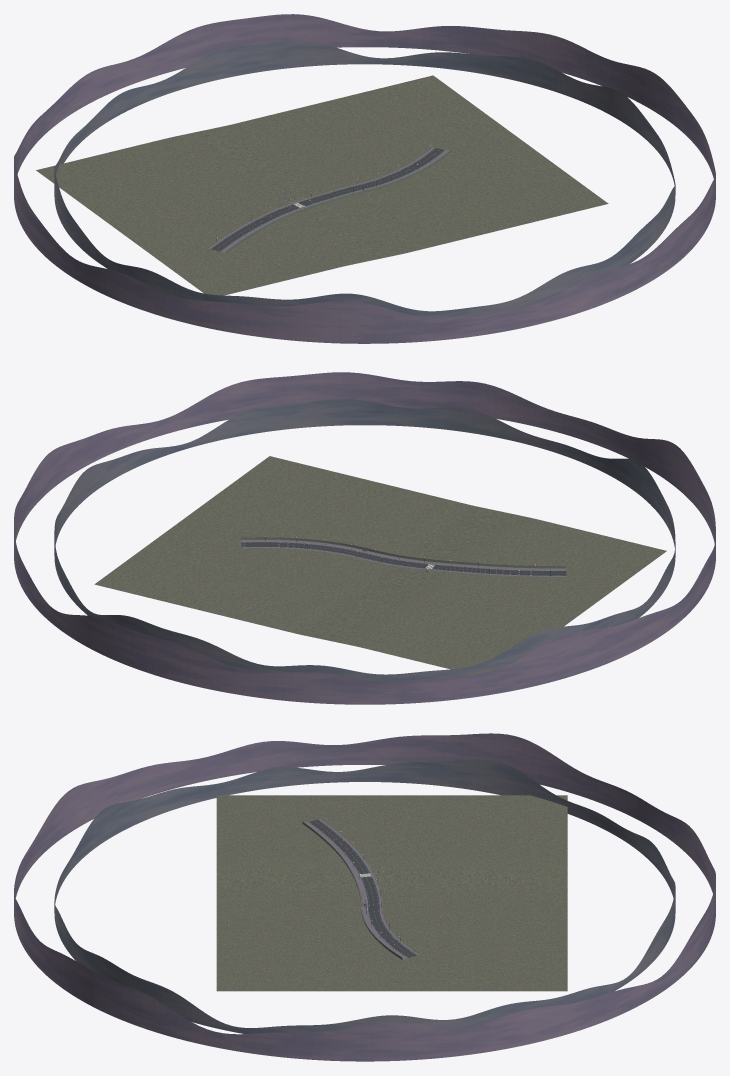
The model's file is static.glb.
The picture shows the model from 3 angles, top to bottom: view 1: azimuth 30°, elevation 25°; view 2: azimuth 150°, elevation 25°; view 3: azimuth 270°, elevation 25°; orthographic projection.
Parts seen in each view (by area): view 1: Landscape, Road; view 2: Landscape, Road; view 3: Landscape, Road.
Part boxes in pixels (bbox=[...]): Landscape: bbox=[14, 14, 715, 343]; Road: bbox=[208, 147, 451, 252]; Landscape: bbox=[14, 372, 715, 704]; Road: bbox=[240, 537, 566, 576]; Landscape: bbox=[14, 733, 715, 1061]; Road: bbox=[302, 819, 419, 959].
Bounding box in the file's own units: 520 × 35.23 × 520.
Materials: 9 (5 with a texture image).
